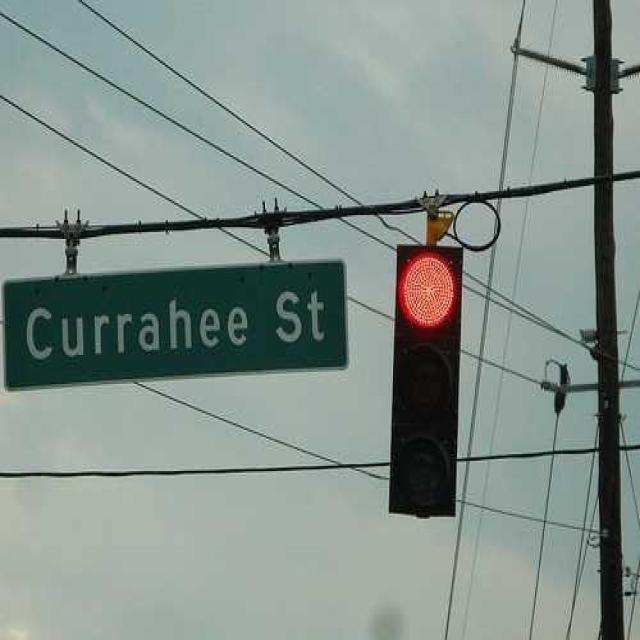Traffic Light -Red-: (385, 237, 465, 517)
